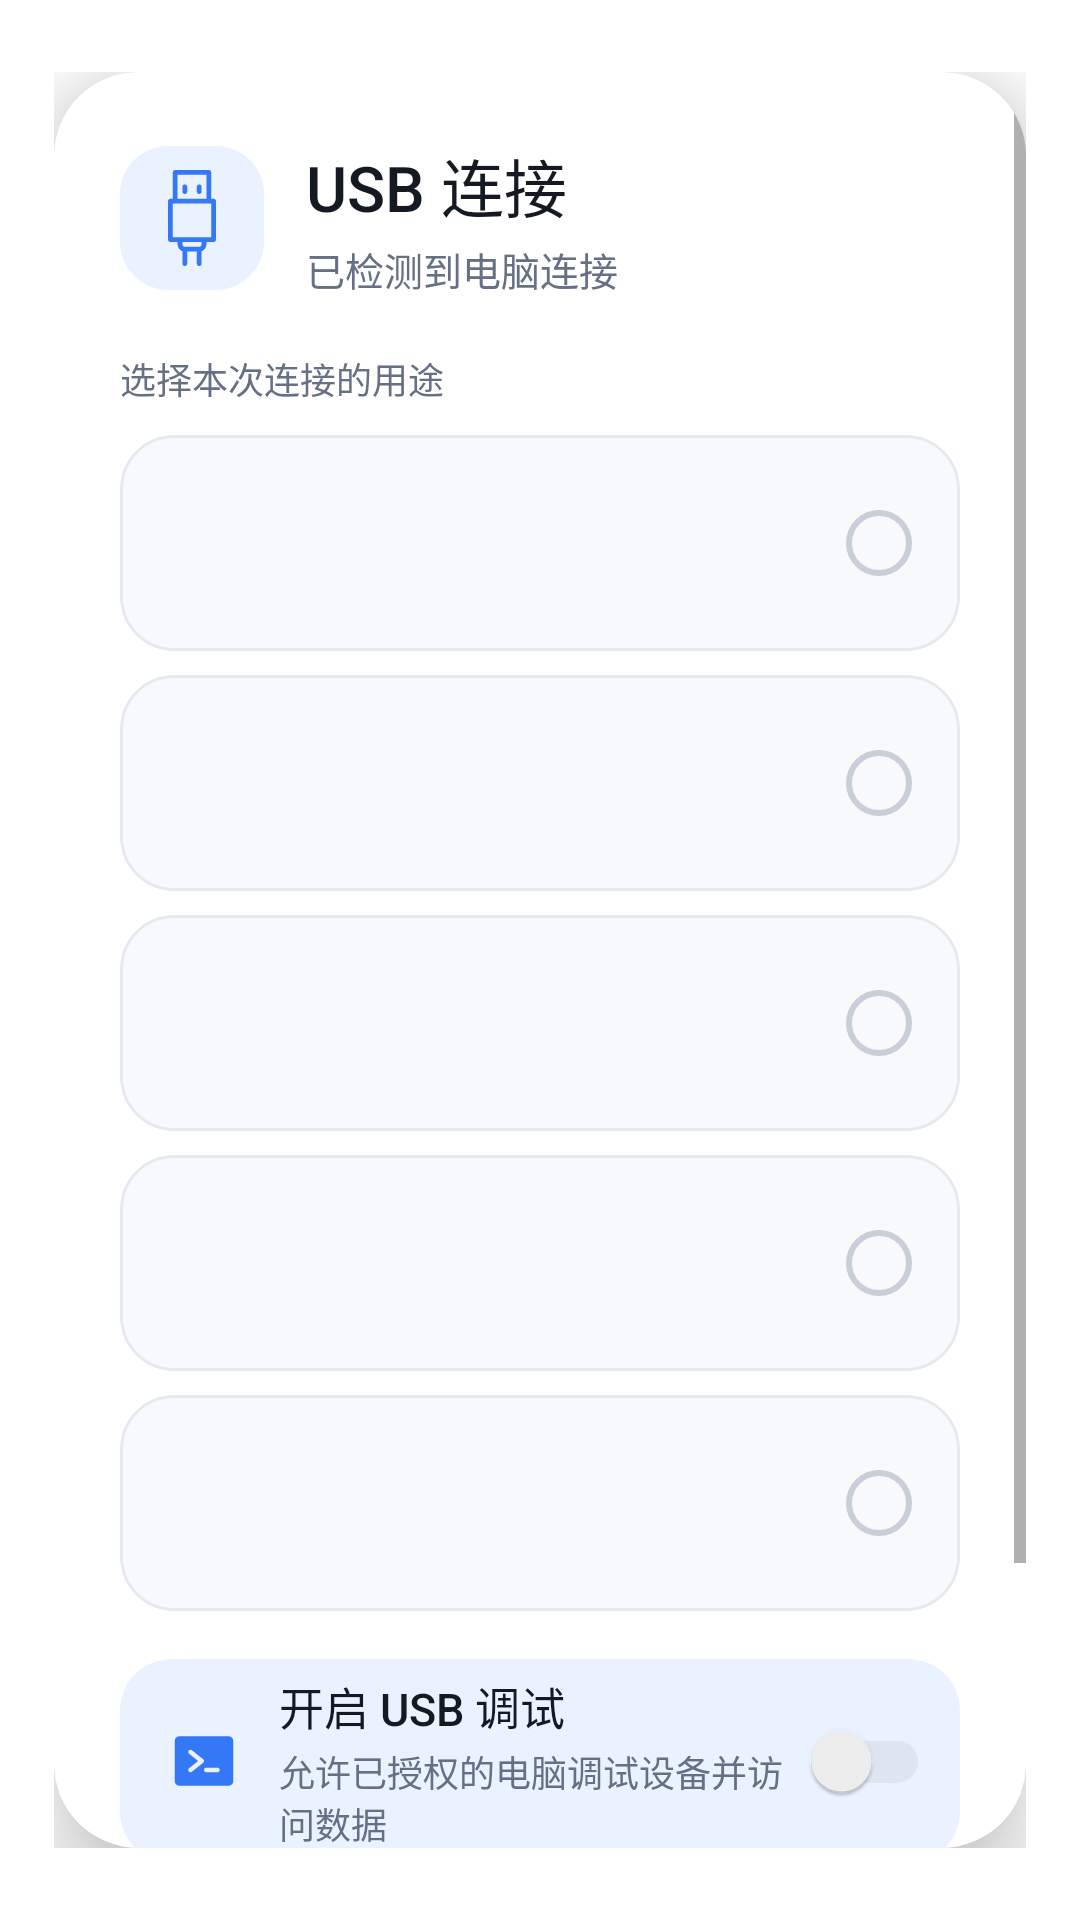

Named icons in this screenshot (1080w x 1920h) and their centers, (x=x, y=y):
terminal: (x=204, y=1761)
usb connection: (x=192, y=218)
